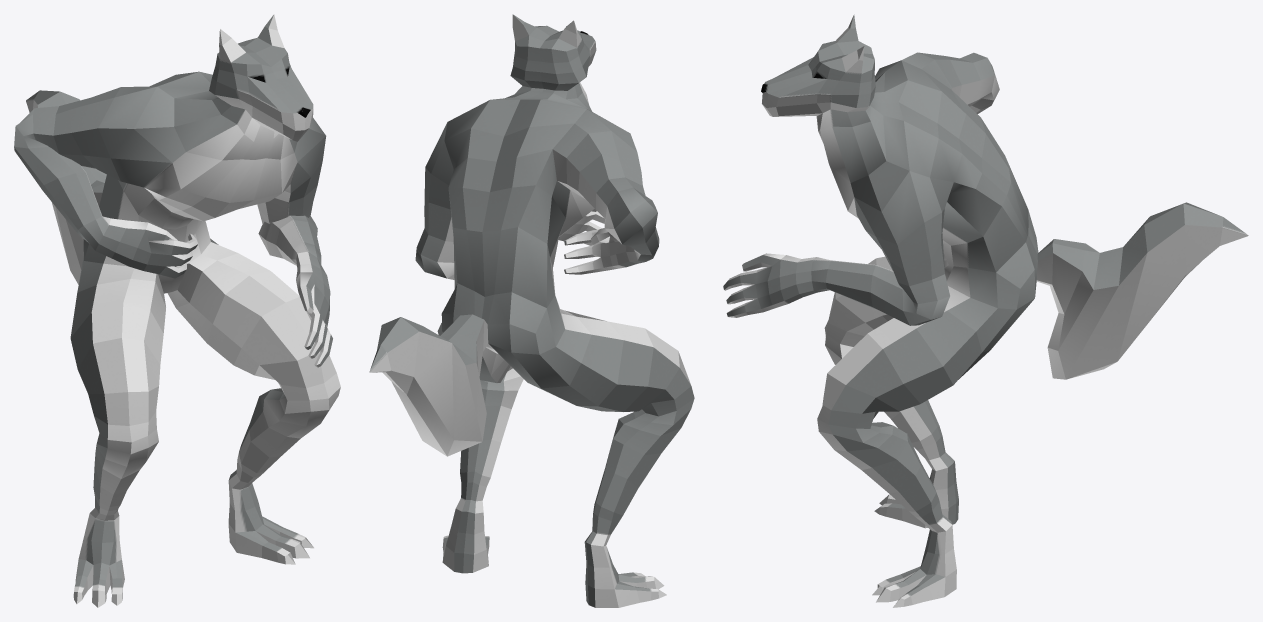
File: WolfIdle_(70).obj
The picture shows the model from 3 angles, left to right: view 1: azimuth 30°, elevation 25°; view 2: azimuth 150°, elevation 25°; view 3: azimuth 270°, elevation 25°; orthographic projection. The views are drawn at different scales.
Parts seen in each view (by area): view 1: Box001; view 2: Box001; view 3: Box001.
Part boxes in pixels (<box>): Box001: <box>14,14,340,607</box>; Box001: <box>369,14,694,607</box>; Box001: <box>723,14,1248,607</box>.
Bounding box in the file's own units: 67.4 × 132 × 116.
